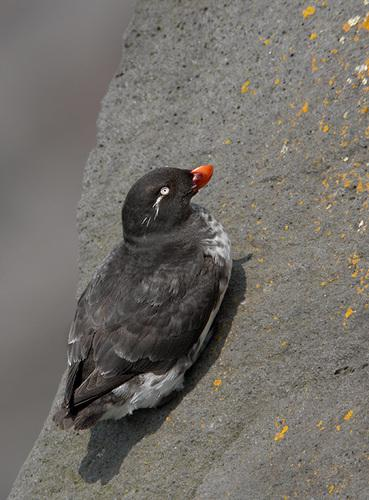007.Parakeet_Auklet: (59, 164, 235, 436)
